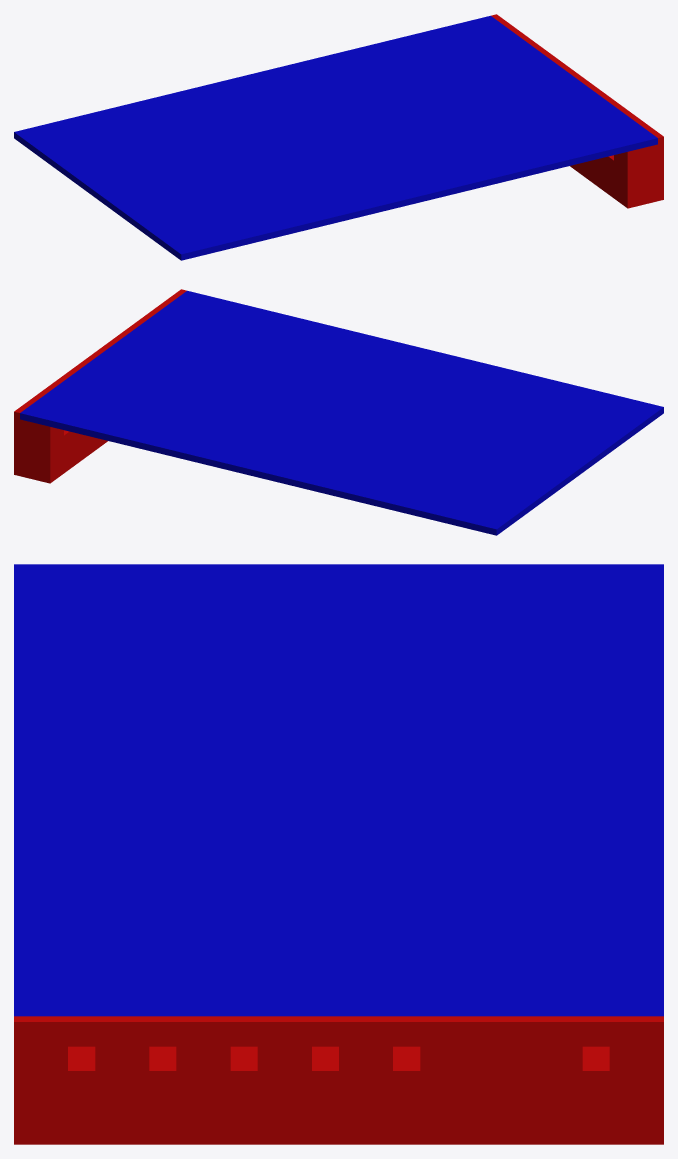
Rendered from muro.glb.
3 views of the same model, one above another, from view 1: azimuth 30°, elevation 25°; view 2: azimuth 150°, elevation 25°; view 3: azimuth 270°, elevation 25° (orthographic). The views are drawn at different scales.
Visible parts, largest first — view 1: defaultobject; view 2: defaultobject; view 3: defaultobject.
Boxes of the visible parts, x1,y1,x2,y2 form: defaultobject: (14,14,663,260); defaultobject: (14,289,663,535); defaultobject: (14,564,663,1144).
Bounding box in the file's own units: 80 × 10 × 48.
